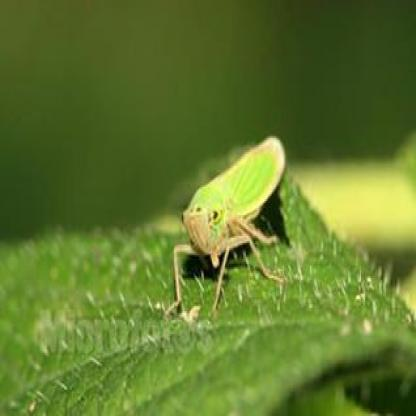Green-Leafhopper: (163, 131, 290, 322)
